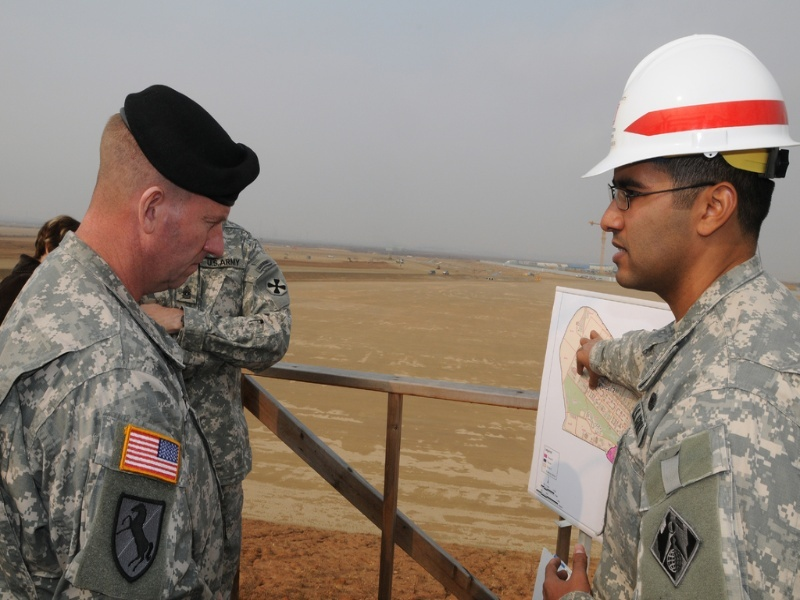Baret: (583, 35, 797, 186)
